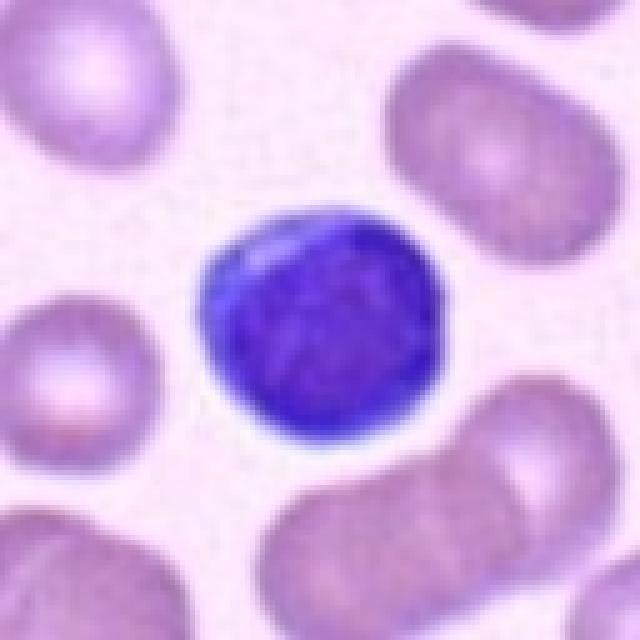lympho: (193, 195, 454, 451)
